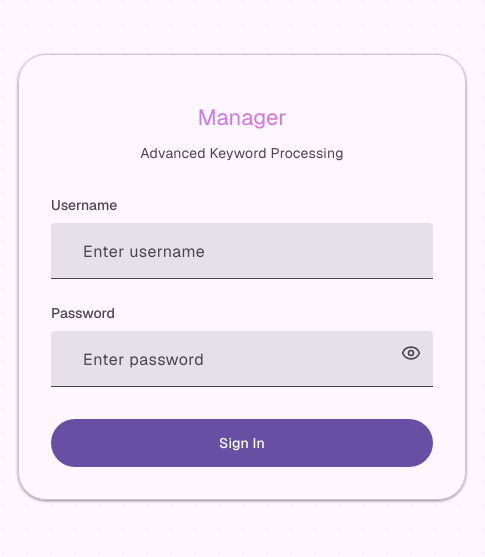
Test: Login page › shows an error when login fails
The width and height of the screenshot is (485, 557).
In the field labelled "Username": {"x": 242, "y": 251} [67, 235, 417, 267], type "bad"
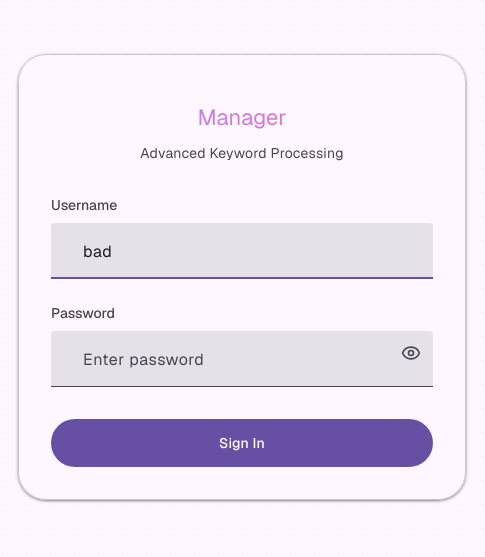
In the password field labelled "Password": {"x": 226, "y": 359} [67, 343, 385, 375], type "bad"
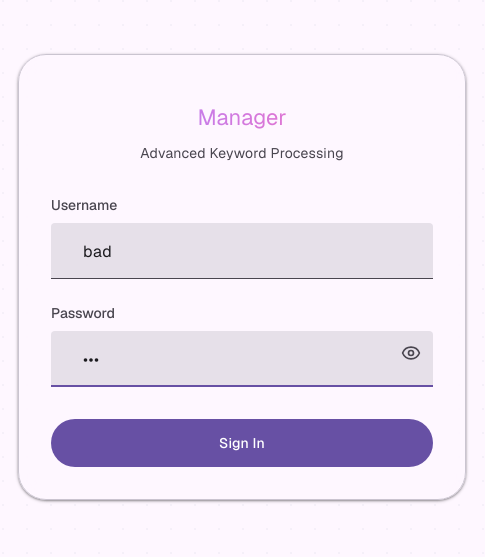
Click the button "Sign In": {"x": 242, "y": 443} [51, 419, 433, 467]
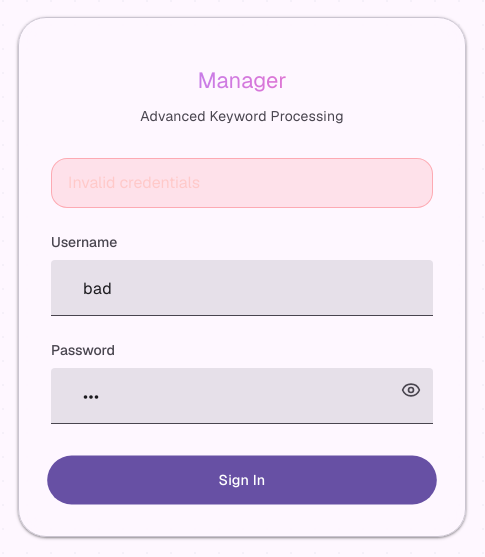
Result: the message reads "Invalid credentials" at [68, 172, 200, 193]
